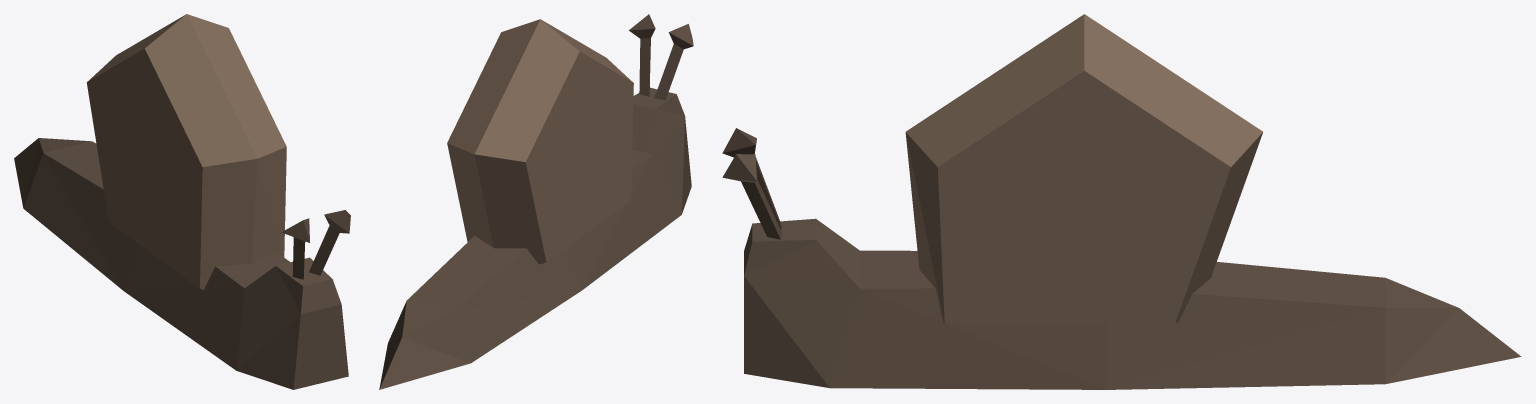
File: Snail.fbx
3 views of the same model, side by side, from view 1: azimuth 30°, elevation 25°; view 2: azimuth 150°, elevation 25°; view 3: azimuth 270°, elevation 25° (orthographic). The views are drawn at different scales.
Parts seen in each view (by area): view 1: Snail; view 2: Snail; view 3: Snail.
Part boxes in pixels (bbox=[...]): Snail: bbox=[14, 14, 350, 389]; Snail: bbox=[379, 14, 693, 389]; Snail: bbox=[722, 14, 1521, 389].
Bounding box in the file's own units: 9.17 × 22.06 × 46.62.
